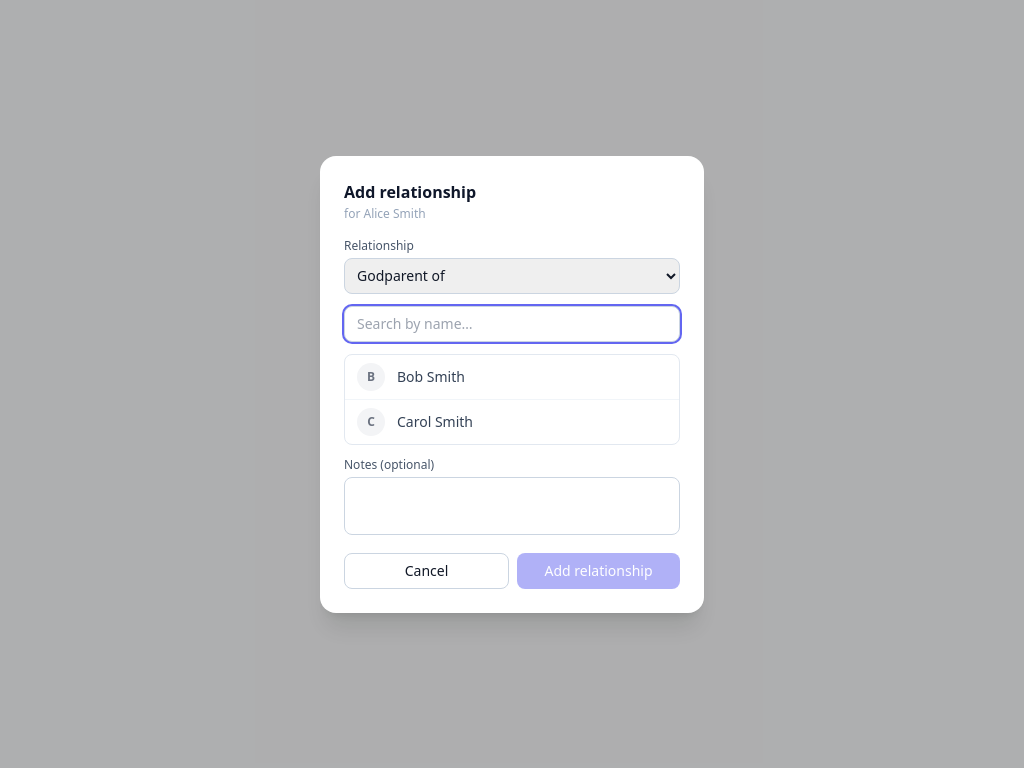
AddRelationshipModal › filters candidates by the search input
Expected: the text "Bob Smith" is shown, [397,366,465,386]
Expected: the text "Carol Smith" is shown, [397,412,473,430]
Type "Bob" into the field with placeholder "Search by name…" at x=512, y=324, box [344,306,680,342]
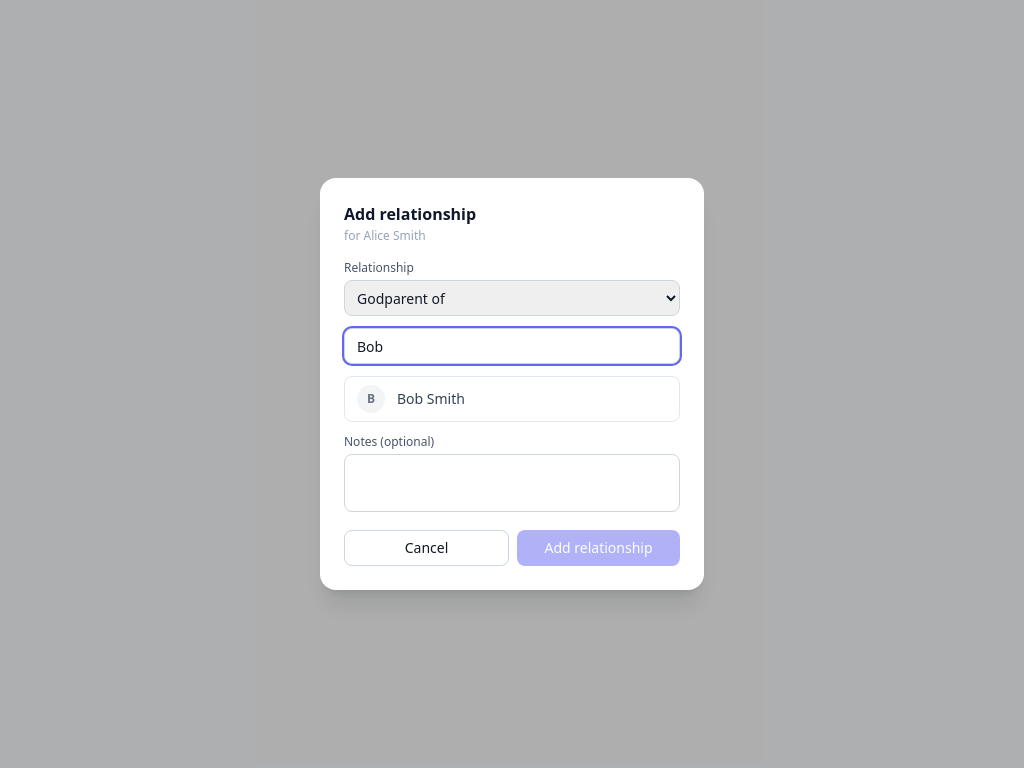
Expected: the text "Bob Smith" is shown, [397,389,465,408]
Expected: the button "Carol Smith" is gone
